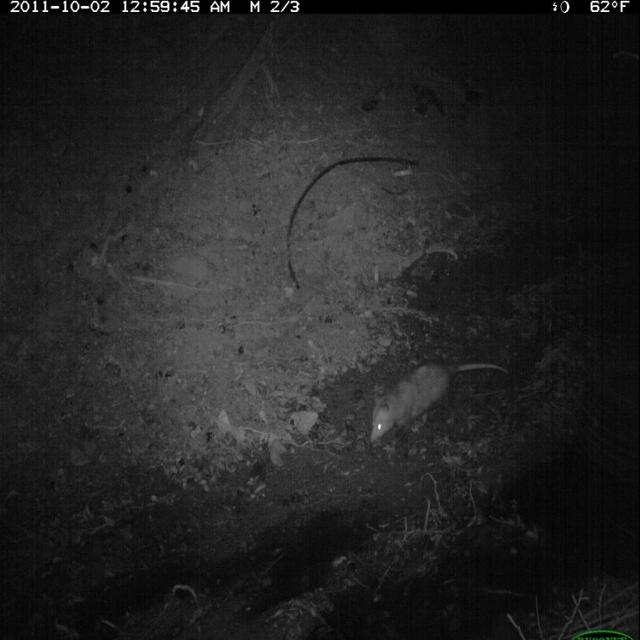opossum: (354, 340, 517, 463)
